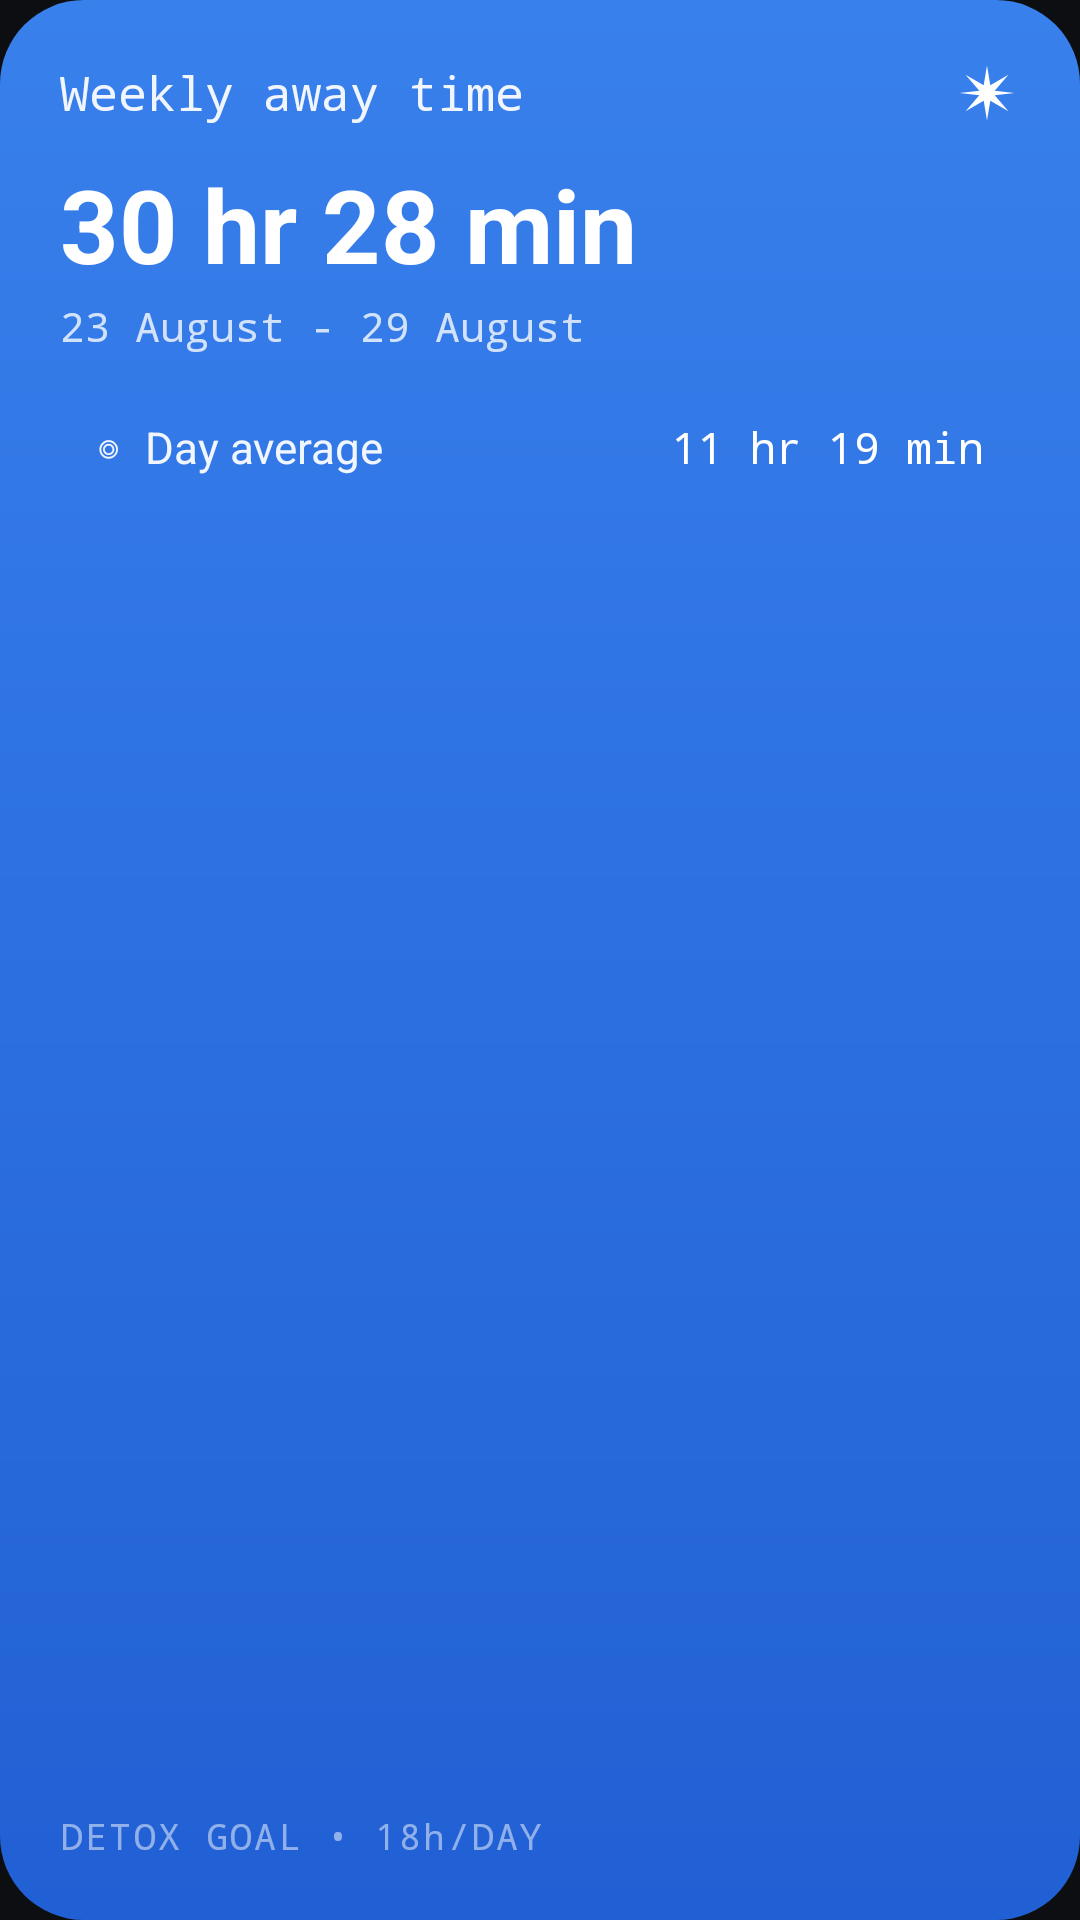

Icons on this 1080w x 1920h Android screen, each with the point to tap as point (x, y):
Sparkle: point (987, 93)
